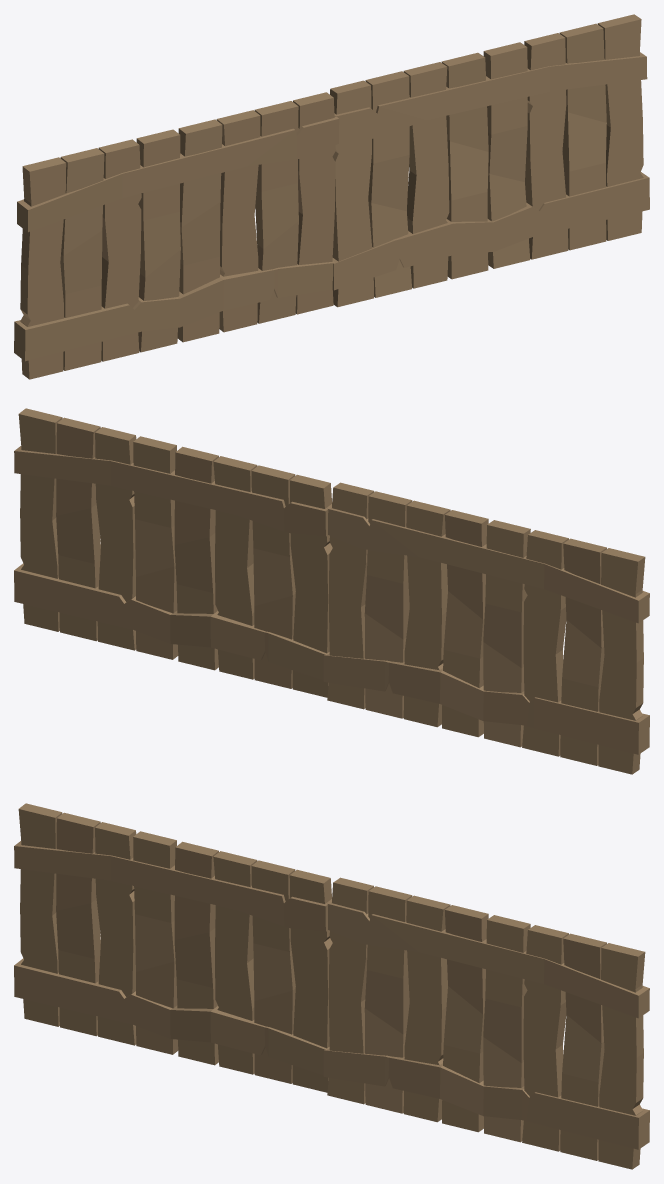
Rendered from Longhouse Walls  GADE.fbx.
The picture shows the model from 3 angles, top to bottom: view 1: azimuth 30°, elevation 25°; view 2: azimuth 150°, elevation 25°; view 3: azimuth 330°, elevation 25°; orthographic projection.
Visible parts, largest first — view 1: Cube.052, Cube.001; view 2: Cube.001, Cube.052; view 3: Cube.052, Cube.001.
Part boxes in pixels (<box>): Cube.052: <box>330,14,649,307</box>; Cube.001: <box>14,92,339,379</box>; Cube.001: <box>323,482,649,774</box>; Cube.052: <box>14,408,332,697</box>; Cube.052: <box>323,877,649,1169</box>; Cube.001: <box>14,803,332,1092</box>.
Size of the model in its own units: 2246 by 727 by 88.51.
